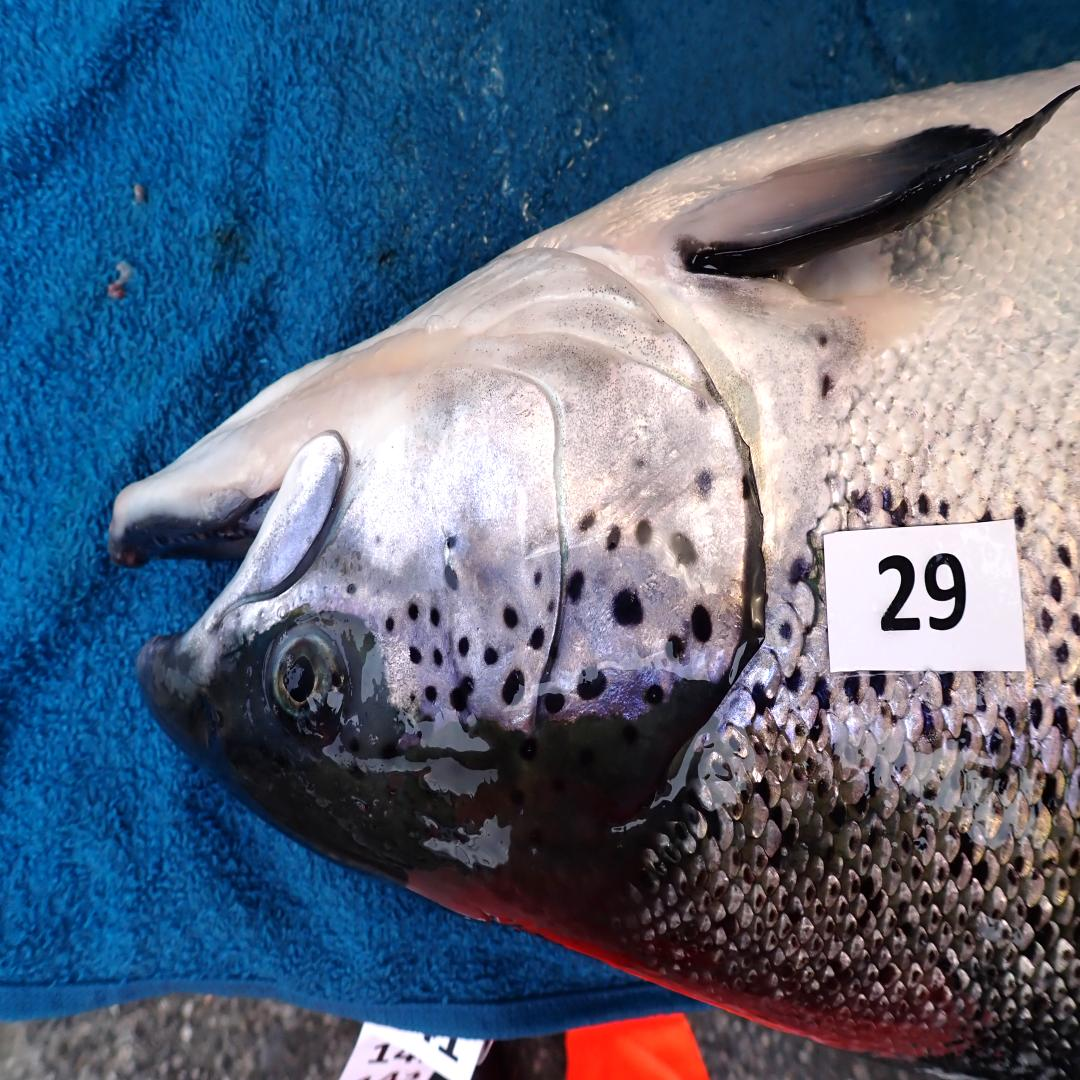roi: (343, 241, 755, 731)
